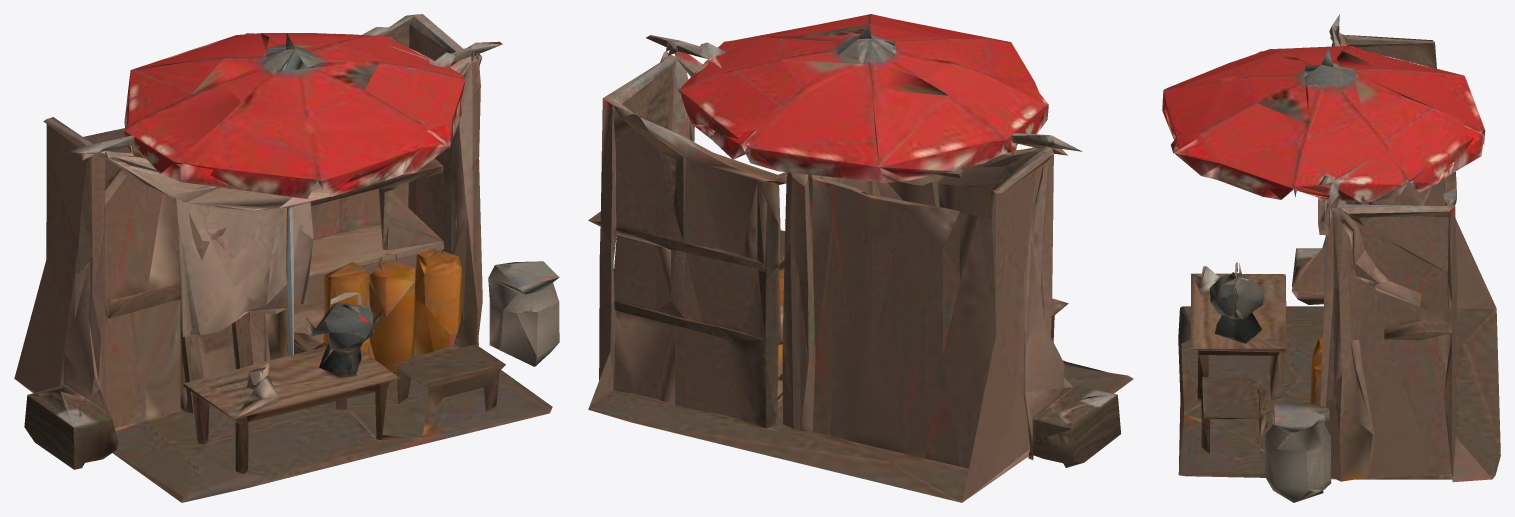
The model's file is teastand.glb.
3 views of the same model, side by side, from view 1: azimuth 30°, elevation 25°; view 2: azimuth 150°, elevation 25°; view 3: azimuth 270°, elevation 25° (orthographic). The views are drawn at different scales.
Size of the model in its own units: 1.89 by 1.37 by 1.22.
Materials: 1 (1 with a texture image).
